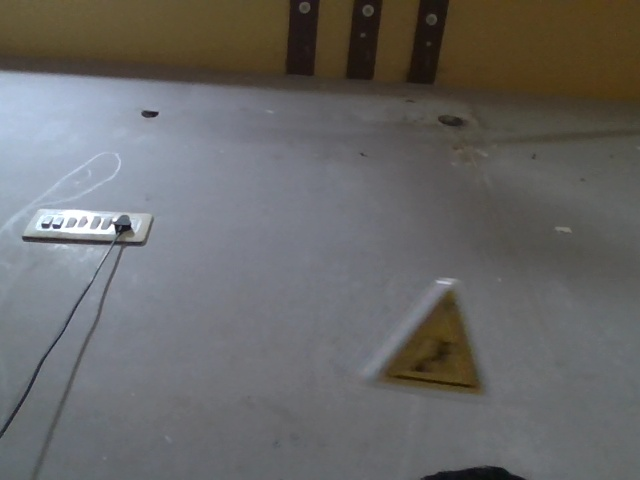workinprogress: (367, 259, 497, 398)
